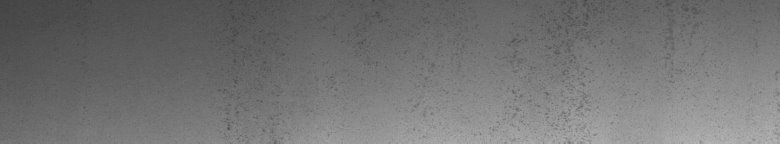ib: (507, 4, 604, 135)
